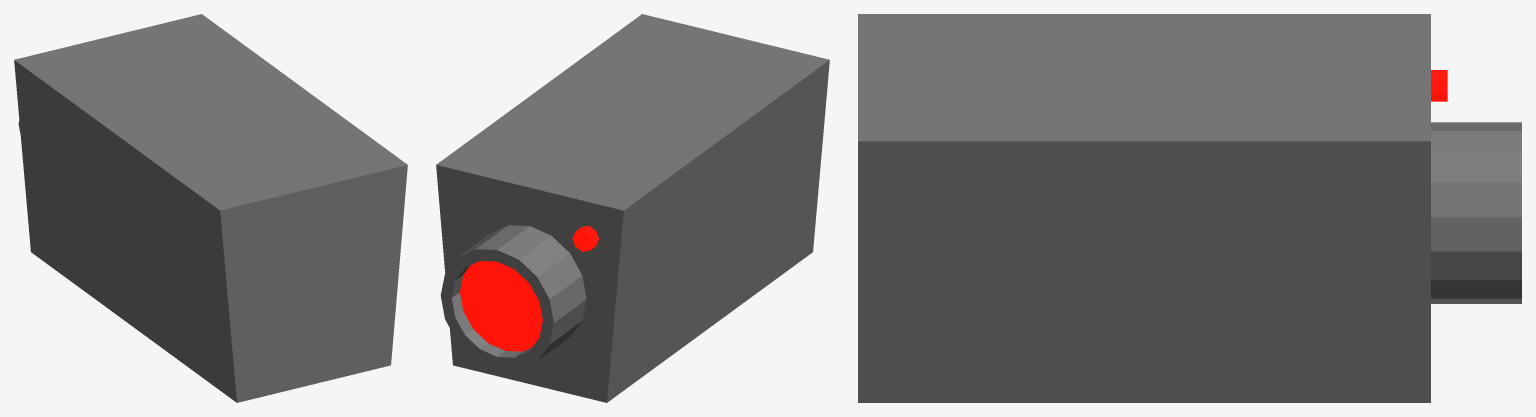
File: camera_head.fbx
3 views of the same model, side by side, from view 1: azimuth 30°, elevation 25°; view 2: azimuth 150°, elevation 25°; view 3: azimuth 270°, elevation 25° (orthographic). The views are drawn at different scales.
Visible parts, largest first — view 1: Cube.009; view 2: Cube.009; view 3: Cube.009.
Part boxes in pixels (x1=…): Cube.009: x1=14, y1=14, x2=407, y2=402; Cube.009: x1=436, y1=14, x2=829, y2=402; Cube.009: x1=858, y1=14, x2=1521, y2=402.
Bounding box in the file's own units: 63 × 63 × 139.
